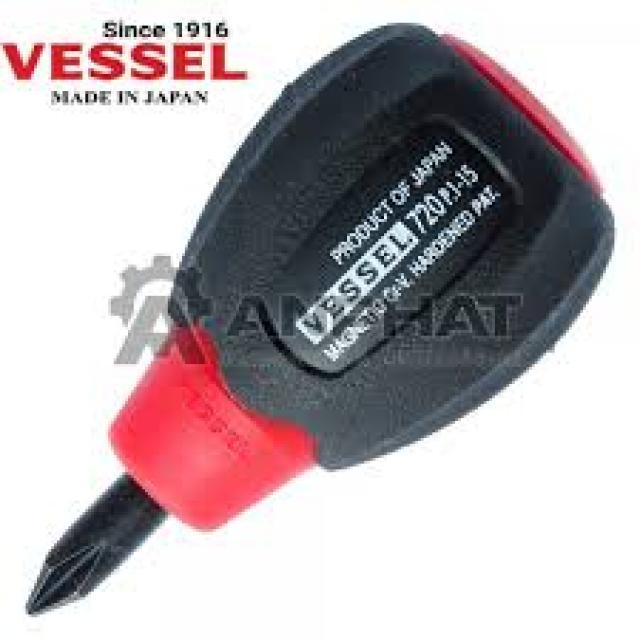screwdriver: (25, 20, 618, 618)
